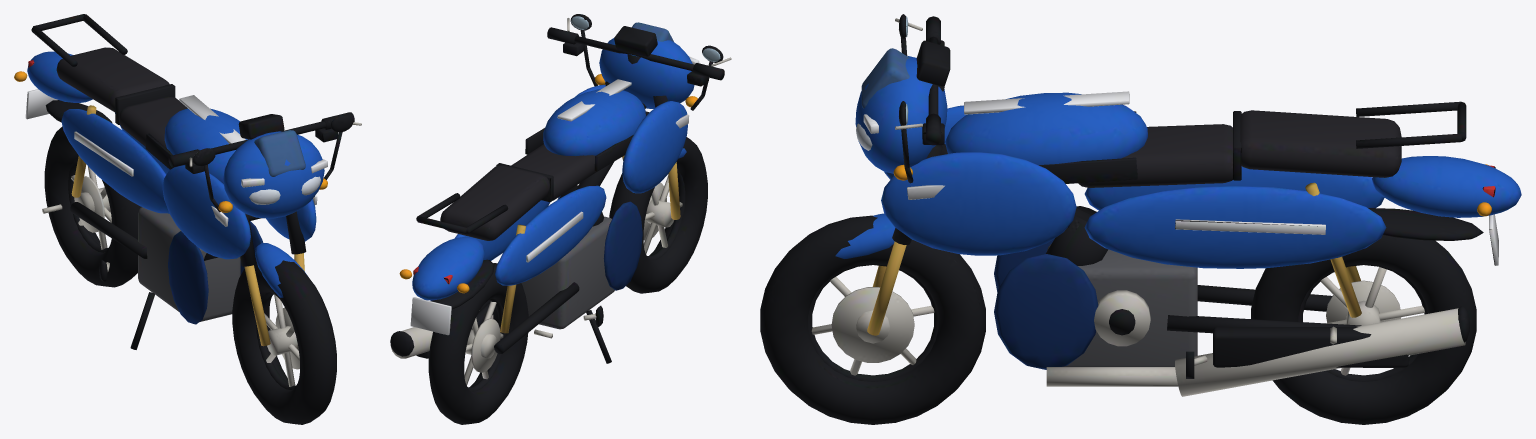
File: tm-exciter.glb
3 views of the same model, side by side, from view 1: azimuth 30°, elevation 25°; view 2: azimuth 150°, elevation 25°; view 3: azimuth 270°, elevation 25° (orthographic). The views are drawn at different scales.
Visible parts, largest first — view 1: tm-exciter; view 2: tm-exciter; view 3: tm-exciter.
Part boxes in pixels (x1,y1,x2,y2): tm-exciter: (14, 14, 361, 424); tm-exciter: (390, 14, 731, 424); tm-exciter: (760, 14, 1521, 424).
Size of the model in its own units: 0.6747 by 1.02 by 1.89.
Materials: 1 (1 with a texture image).
